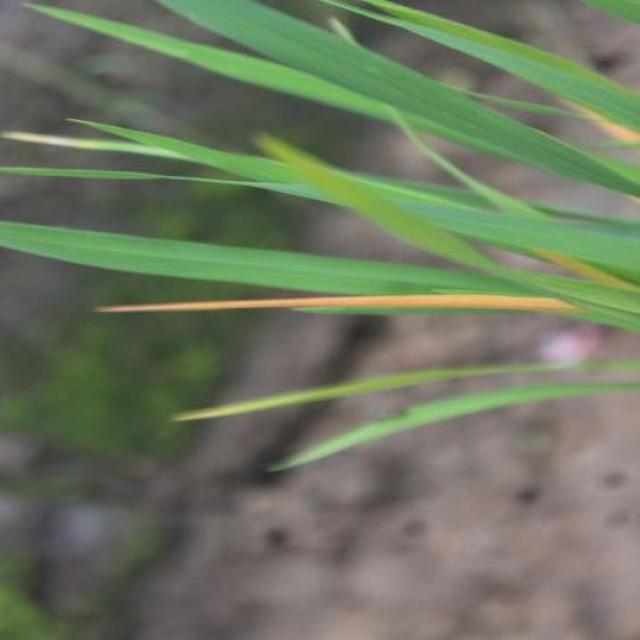Tungro: (69, 278, 640, 333)
